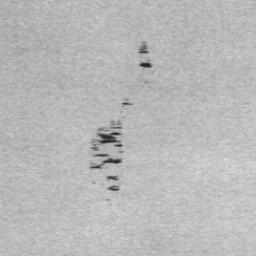Secondary rust skin: (88, 152, 122, 169), (97, 131, 124, 148), (106, 175, 120, 192), (138, 44, 150, 54), (138, 61, 153, 68), (121, 102, 133, 106)
